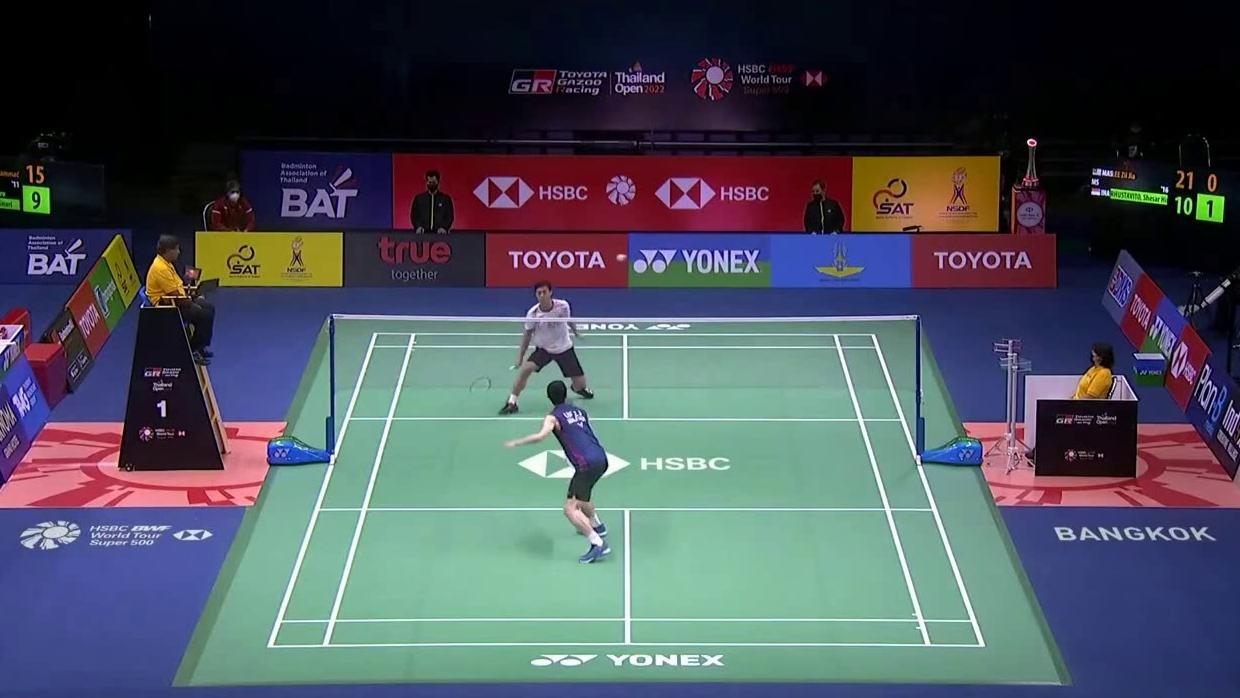racket: (470, 364, 520, 395)
shuttle: (616, 253, 627, 262)
